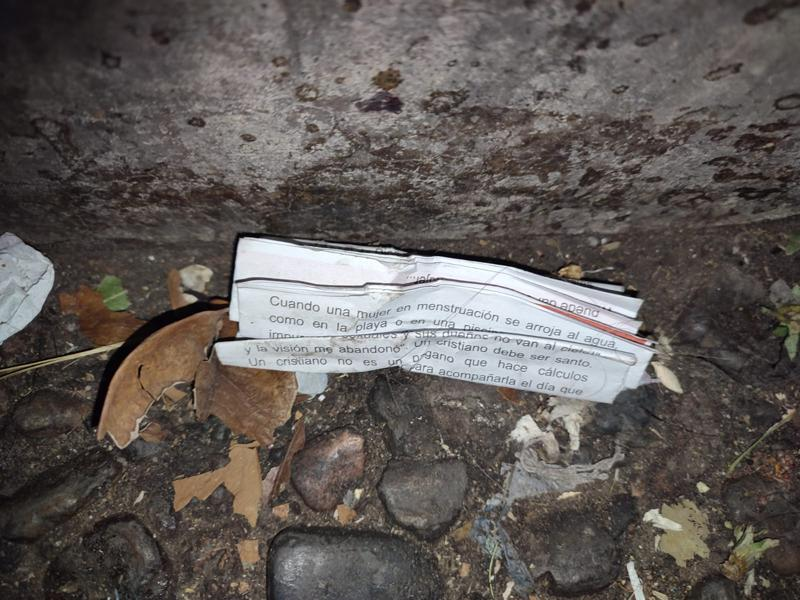papel: (207, 235, 659, 405)
